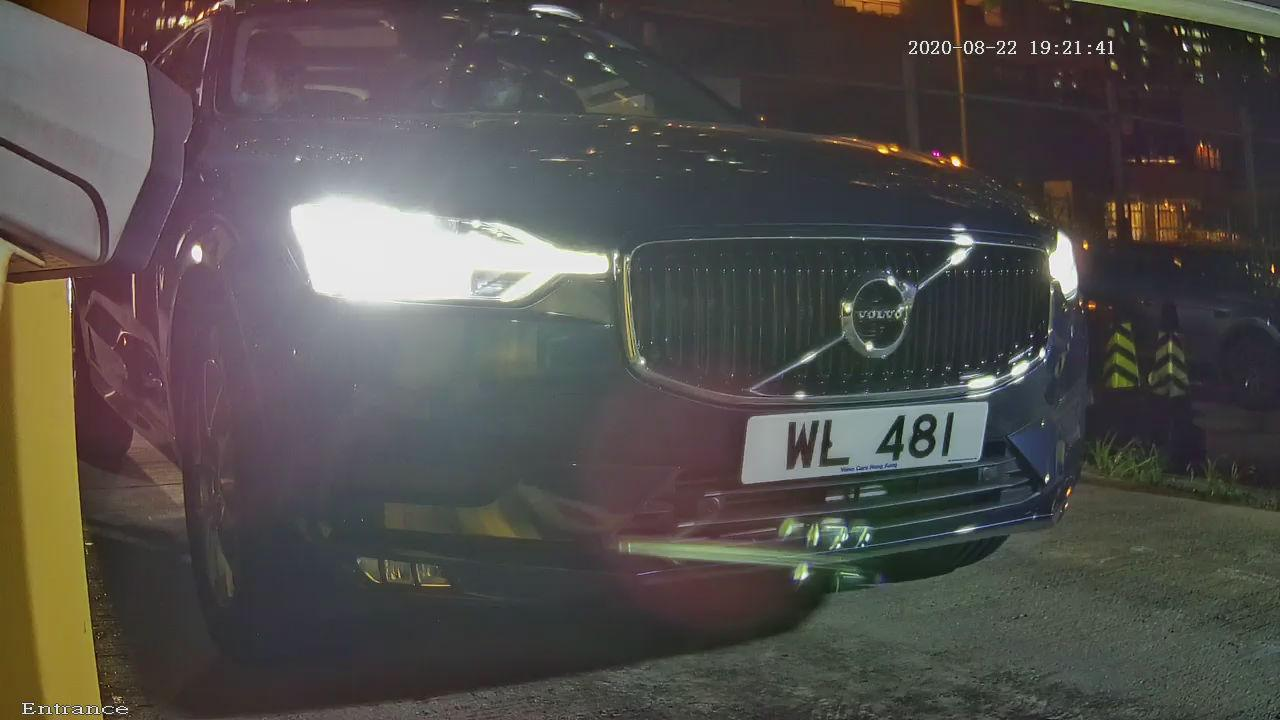Car: (29, 4, 1189, 672)
License Plate: (715, 386, 1001, 496)
